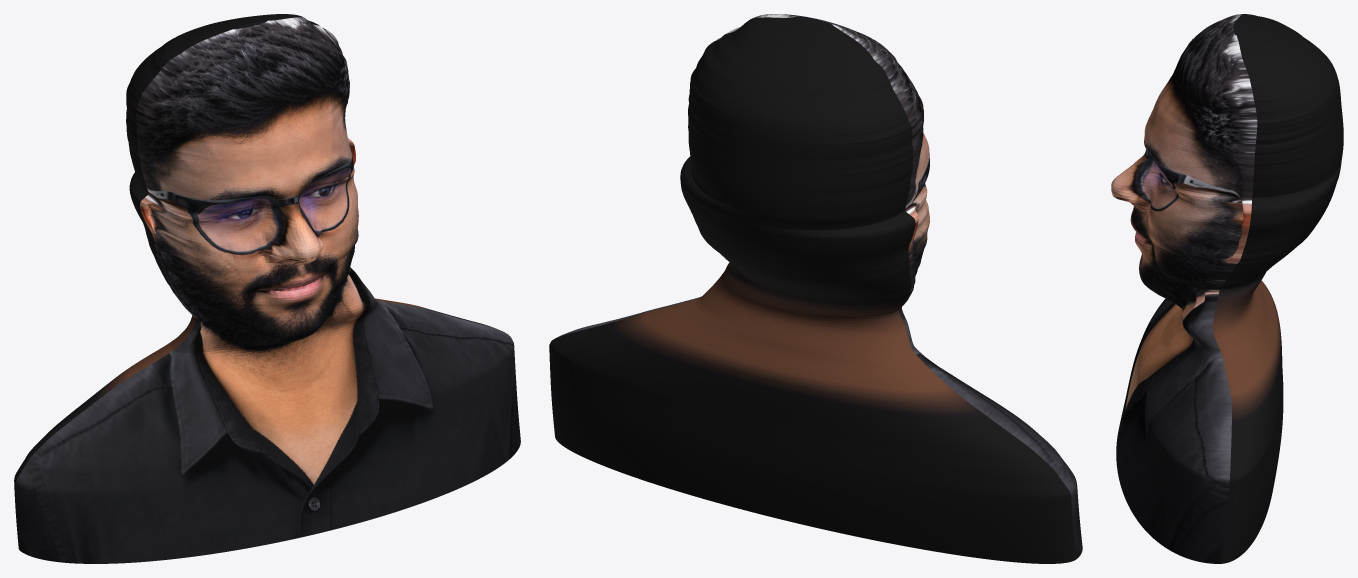
The model's file is punith-portrait.glb.
3 views of the same model, side by side, from view 1: azimuth 30°, elevation 25°; view 2: azimuth 150°, elevation 25°; view 3: azimuth 270°, elevation 25° (orthographic). The views are drawn at different scales.
Visible parts, largest first — view 1: Photo-fitted front, Inferred rear; view 2: Inferred rear, Photo-fitted front; view 3: Photo-fitted front, Inferred rear.
Boxes of the visible parts, x1=… form: Photo-fitted front: x1=16, y1=17, x2=520, y2=563; Inferred rear: x1=14, y1=14, x2=504, y2=550; Inferred rear: x1=549, y1=16, x2=1075, y2=563; Photo-fitted front: x1=553, y1=14, x2=1082, y2=559; Photo-fitted front: x1=1111, y1=14, x2=1257, y2=563; Inferred rear: x1=1213, y1=14, x2=1343, y2=563.
Size of the model in its own units: 0.6894 by 0.615 by 0.307.
Materials: 1 (1 with a texture image).
